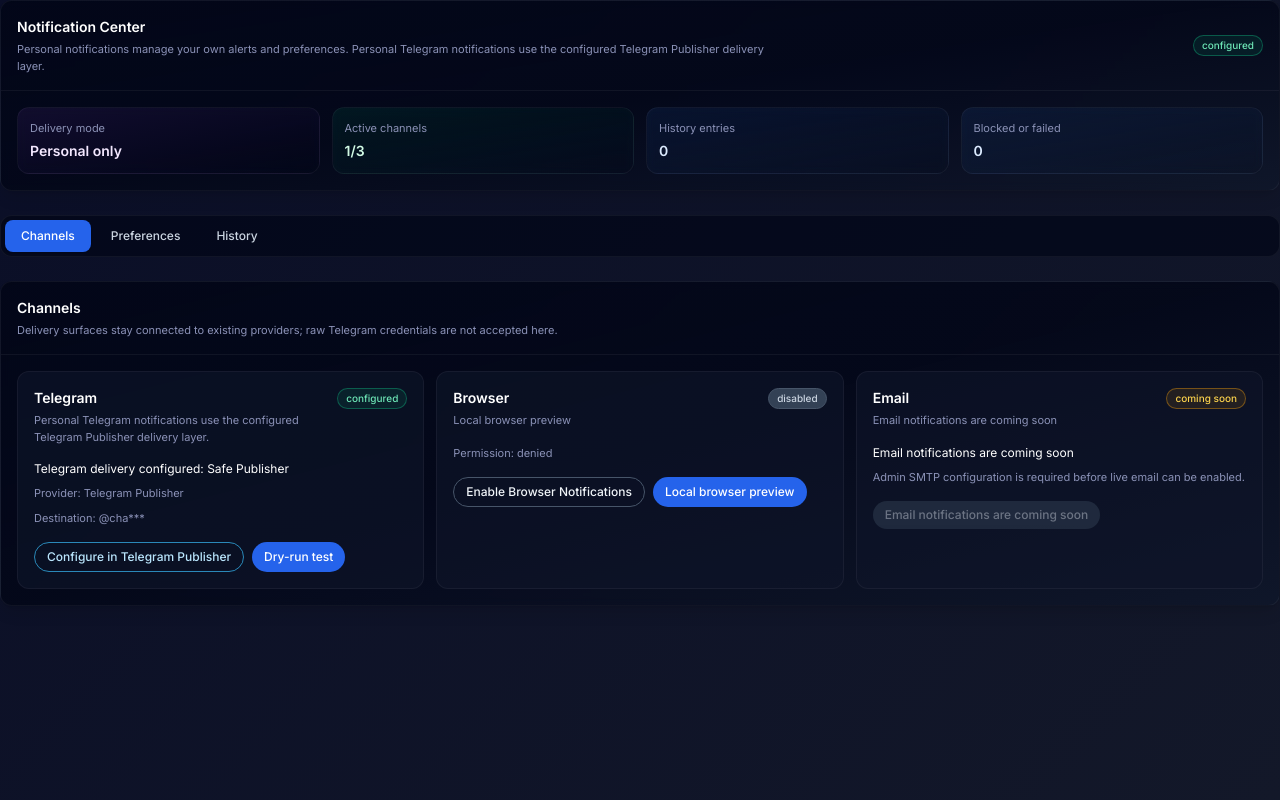
Test case: NotificationsSettings unified center › renders backend-backed history empty state and filters
Click the button "History" at (237, 236), box left=200, top=220, right=274, bottom=252
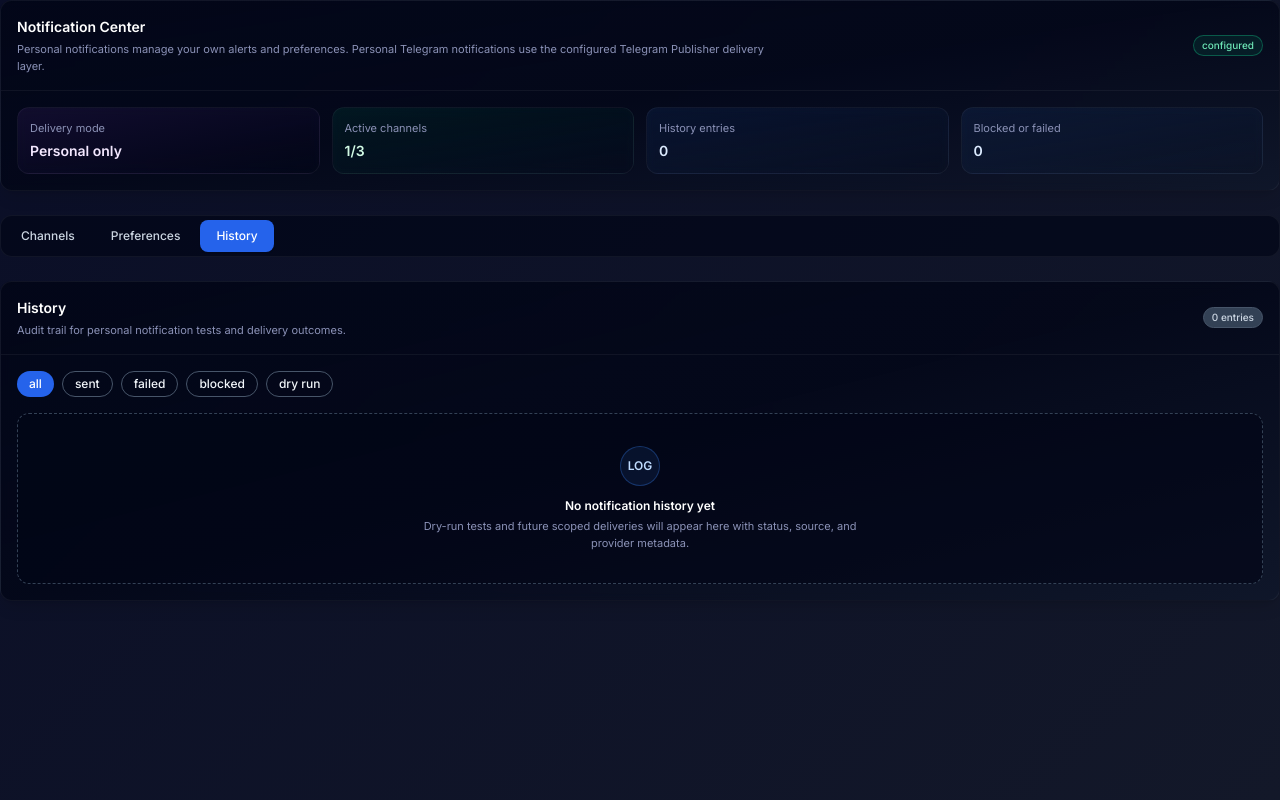
expect the button "all" is shown: met, box left=17, top=371, right=54, bottom=397
expect the button "sent" is shown: met, box left=62, top=371, right=113, bottom=397
expect the button "failed" is shown: met, box left=121, top=371, right=178, bottom=397
